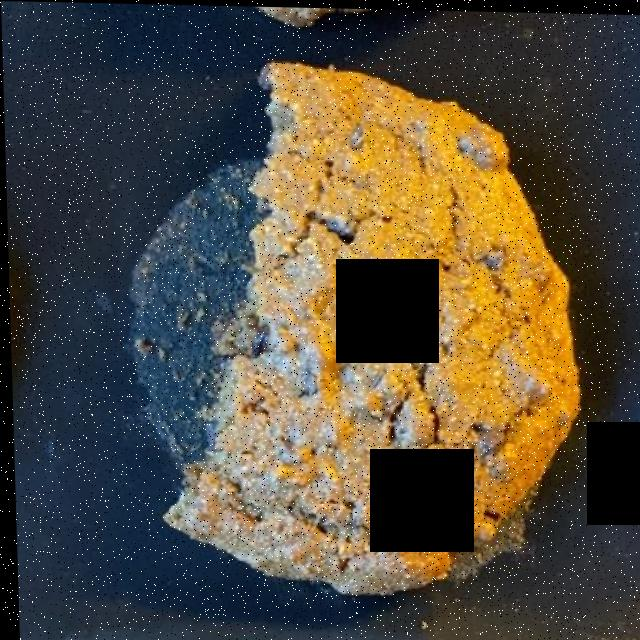cookies: (164, 65, 549, 597)
